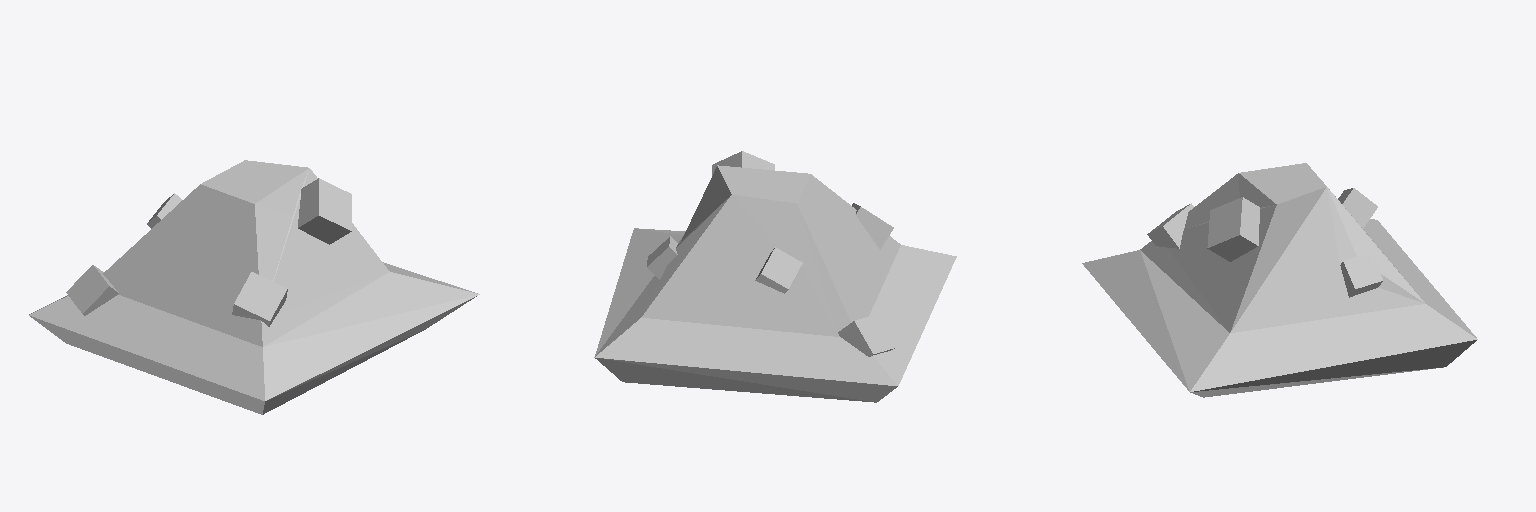
File: Cap3.obj
3 views of the same model, side by side, from view 1: azimuth 30°, elevation 25°; view 2: azimuth 150°, elevation 25°; view 3: azimuth 270°, elevation 25° (orthographic).
Parts seen in each view (by area): view 1: Cap3; view 2: Cap3; view 3: Cap3.
Boxes of the visible parts, <box> form: Cap3: <box>29,160,479,414</box>; Cap3: <box>594,151,956,402</box>; Cap3: <box>1082,163,1477,397</box>.
Size of the model in its own units: 0.2705 by 0.1164 by 0.2591.